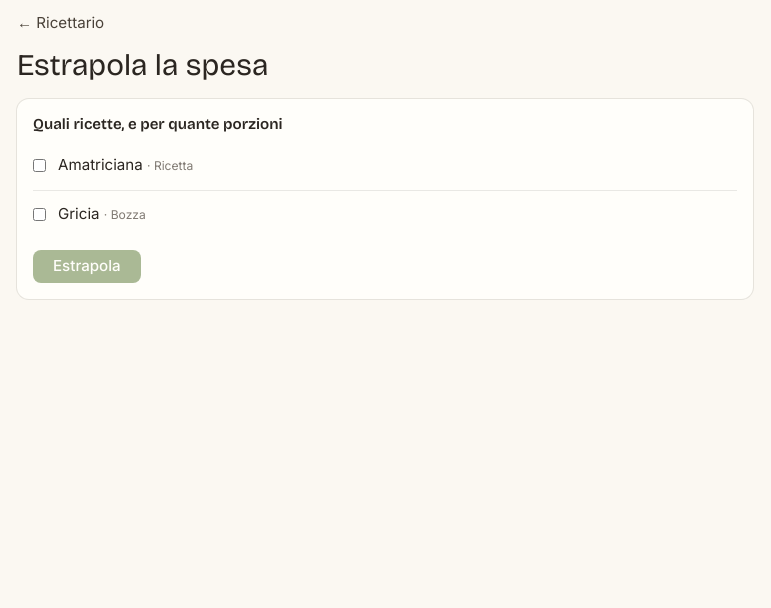
Test: Estrapola la spesa › 🔴 in lista va solo quello che si tiene, con le ricette da cui viene
Click the checkbox labelled "Amatriciana · Ricetta": (40, 166) [33, 159, 46, 172]
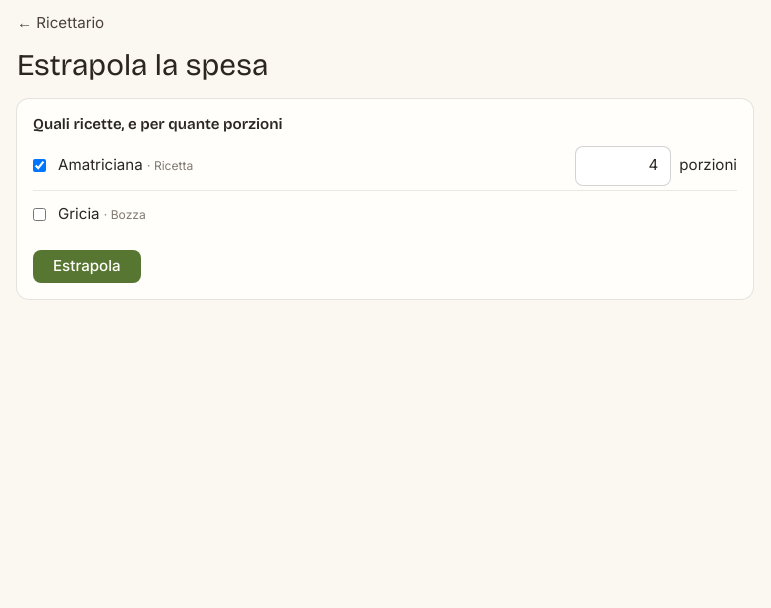
Replace the text in the field named "Porzioni di Amatriciana" with "8": (623, 166) [575, 146, 671, 186]
Click the checkbox labelled "Gricia · Bozza": (40, 214) [33, 208, 46, 221]
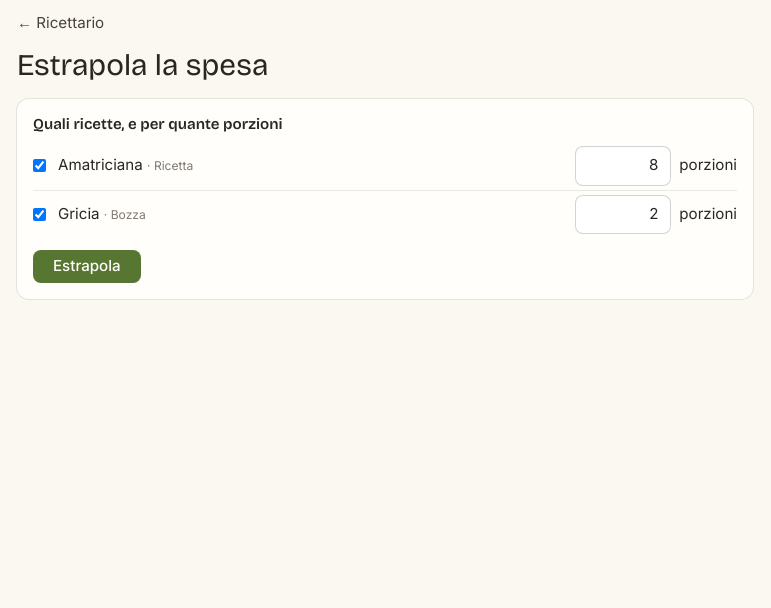
Click the button "Estrapola": (87, 266) [33, 250, 141, 282]
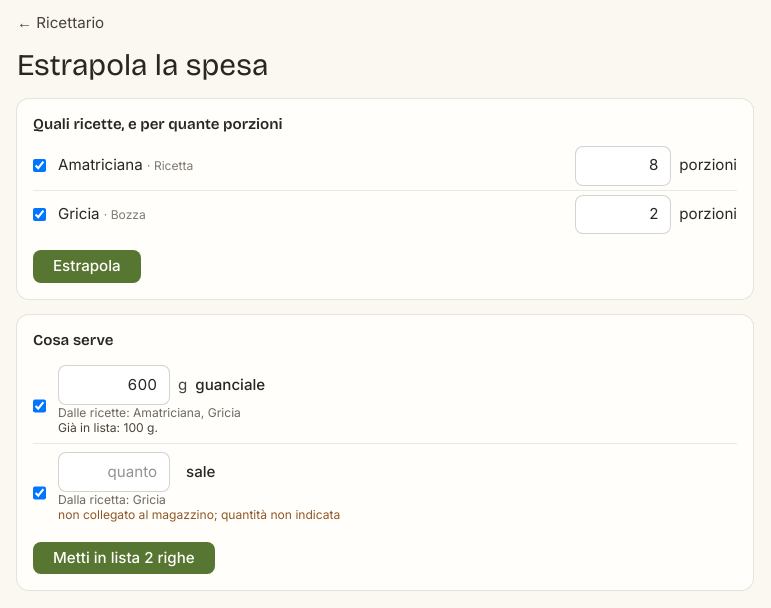
Result: the text "non collegato al magazzino; quantità non indicata" is shown at [58, 507, 340, 522]
Result: the text "Già in lista: 100 g." is shown at [58, 420, 158, 435]
Click the checkbox named "Metti in lista sale": (40, 493) [33, 464, 46, 522]
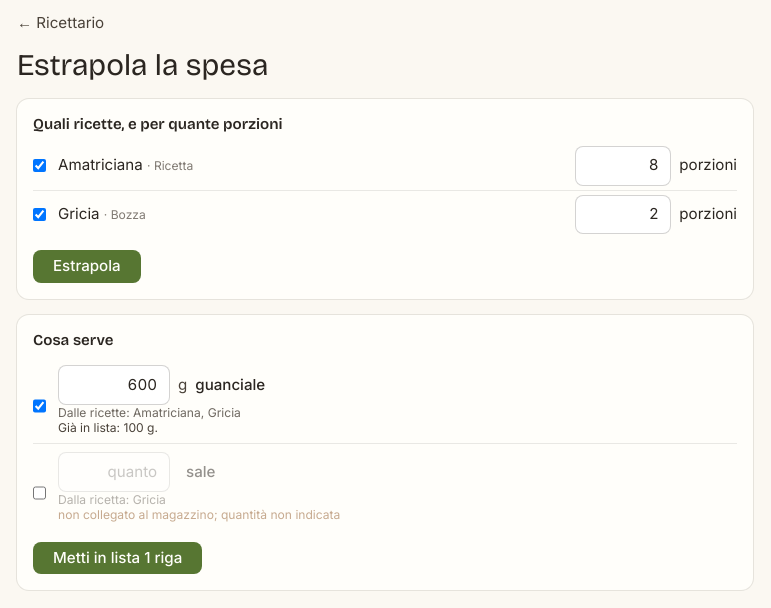
Replace the text in the field named "Quantità di guanciale" with "500": (114, 385) [58, 365, 170, 405]
Click the button "Metti in lista 1 riga": (118, 558) [33, 542, 202, 574]
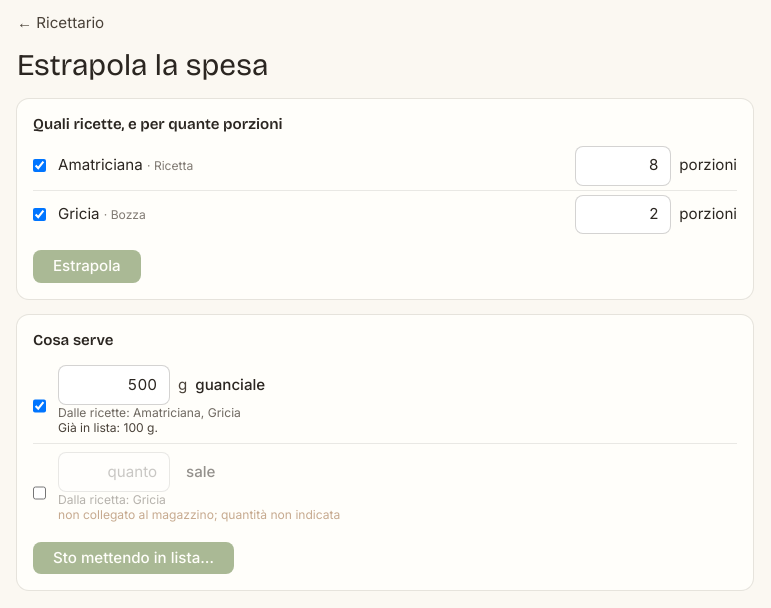
Click the button named "Metti in lista 1 riga": (134, 558) [33, 542, 234, 574]
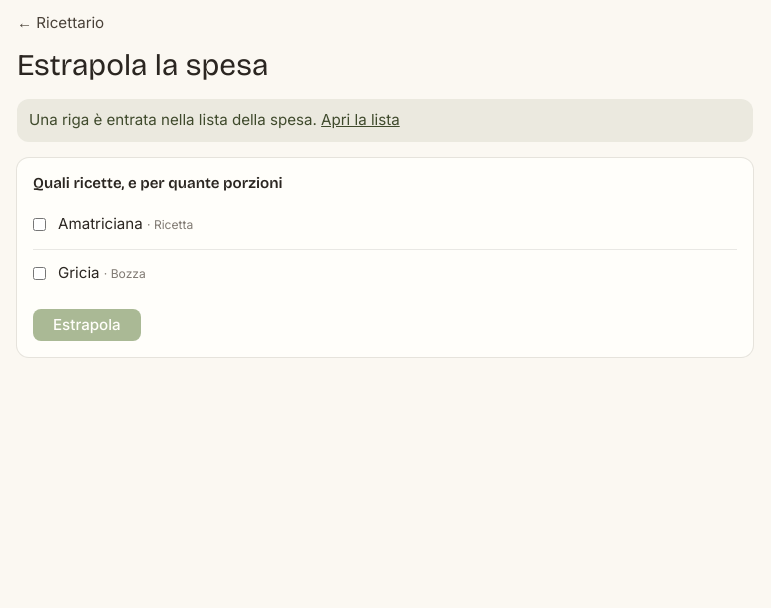
Result: the text "Una riga è entrata nella lista della spesa. Apri la lista" is shown at [17, 99, 753, 142]
